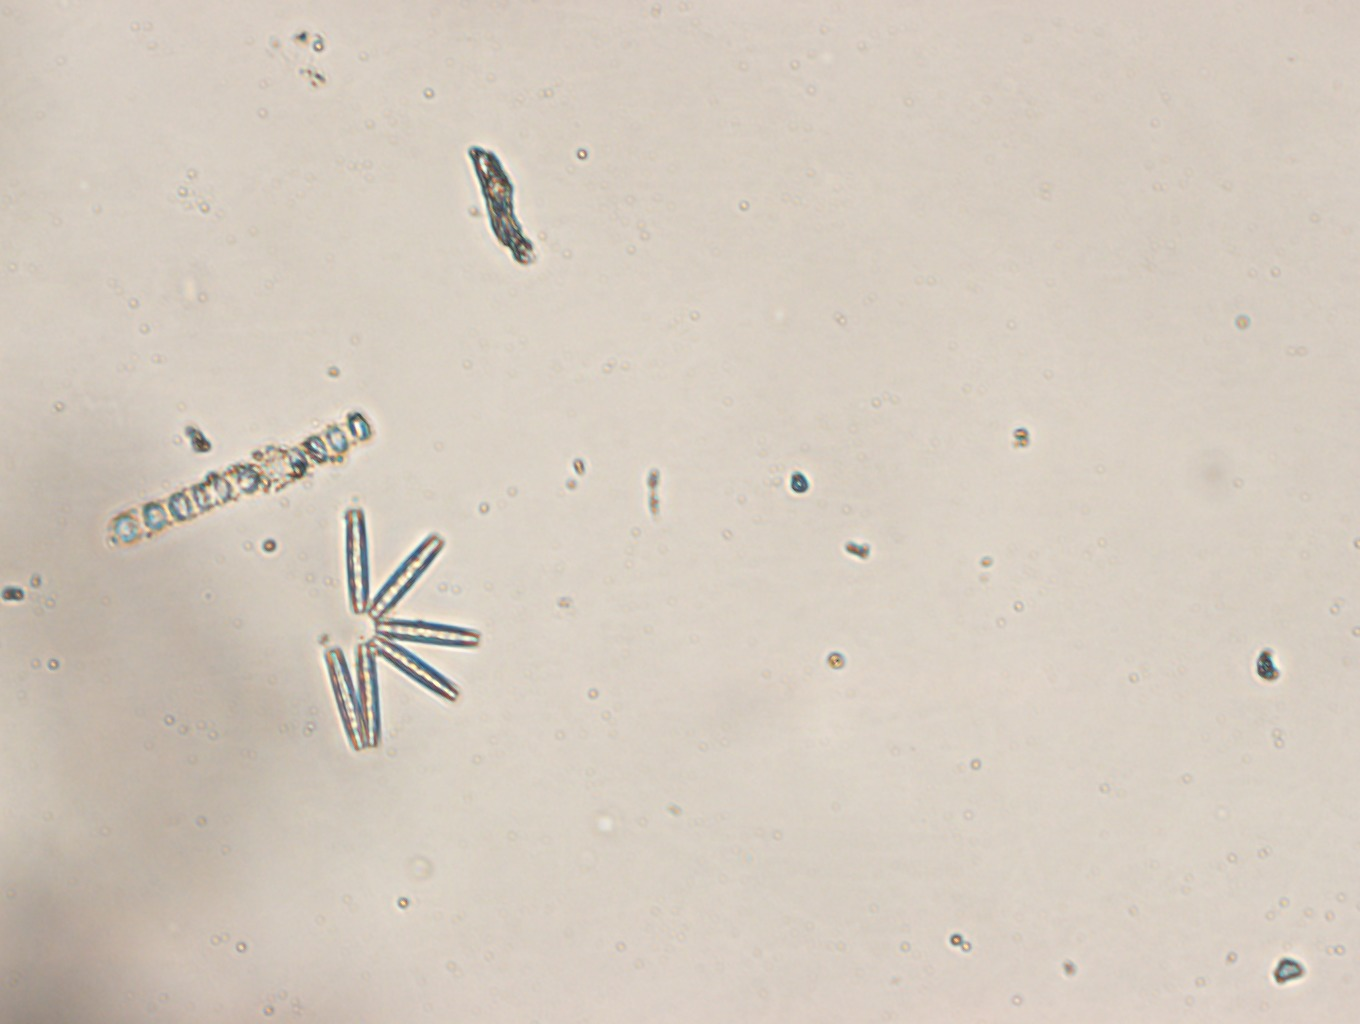skeletonema: (105, 411, 374, 551)
thalassionema nitzschioides: (323, 508, 479, 752)
